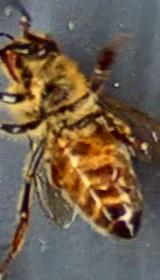varroa_mite: (44, 153, 72, 194)
